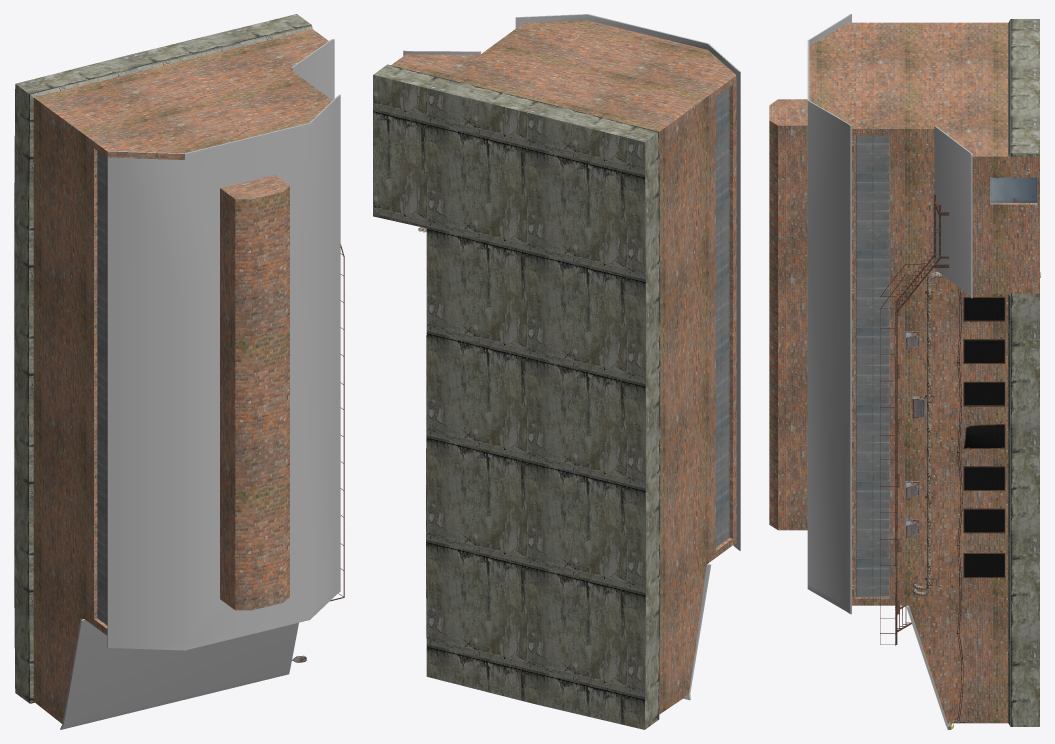
File: lagerhalle_3.fbx
3 renders of one model, left to right at view 1: azimuth 30°, elevation 25°; view 2: azimuth 150°, elevation 25°; view 3: azimuth 270°, elevation 25°, orthographic. The views are drawn at different scales.
Parts seen in each view (by area): view 1: MDL-Box011; view 2: MDL-Box011; view 3: MDL-Box011.
Boxes of the visible parts, x1,y1,x2,y2 form: MDL-Box011: (14, 14, 344, 729); MDL-Box011: (373, 14, 740, 729); MDL-Box011: (769, 14, 1040, 729).
Size of the model in its own units: 24.5 by 50.02 by 20.3.
